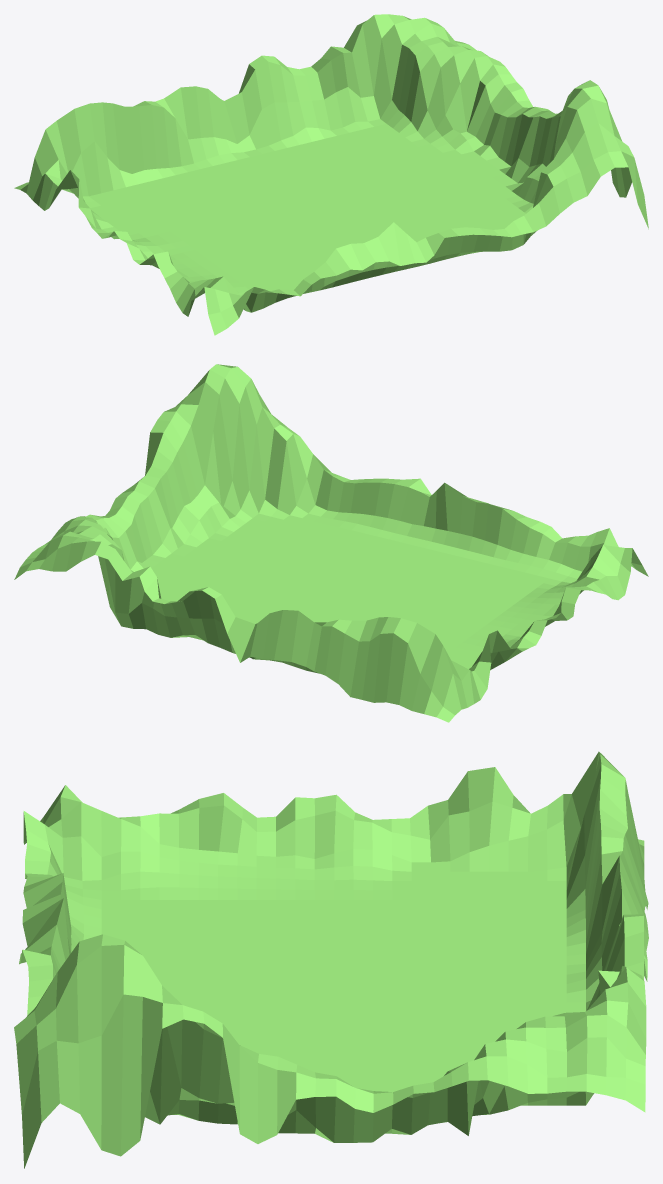
File: terrain.fbx
3 renders of one model, top to bottom at view 1: azimuth 30°, elevation 25°; view 2: azimuth 150°, elevation 25°; view 3: azimuth 270°, elevation 25°, orthographic. The views are drawn at different scales.
Parts seen in each view (by area): view 1: Plane; view 2: Plane; view 3: Plane.
Part boxes in pixels (x1,y1,x2,y2): Plane: (14, 14, 648, 335); Plane: (14, 364, 648, 722); Plane: (14, 751, 648, 1168).
Size of the model in its own units: 5074 by 1471 by 4097.
